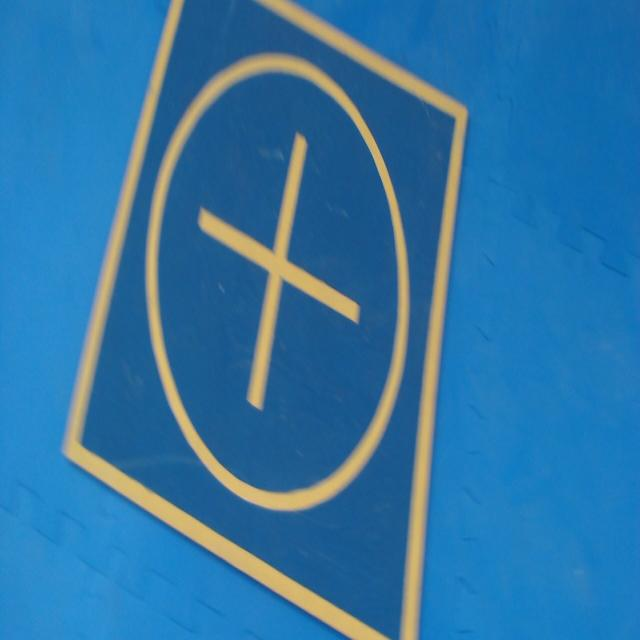base_pouso: (61, 0, 470, 639)
